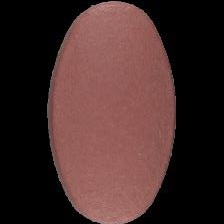0006-0227: (0, 0, 224, 224)
